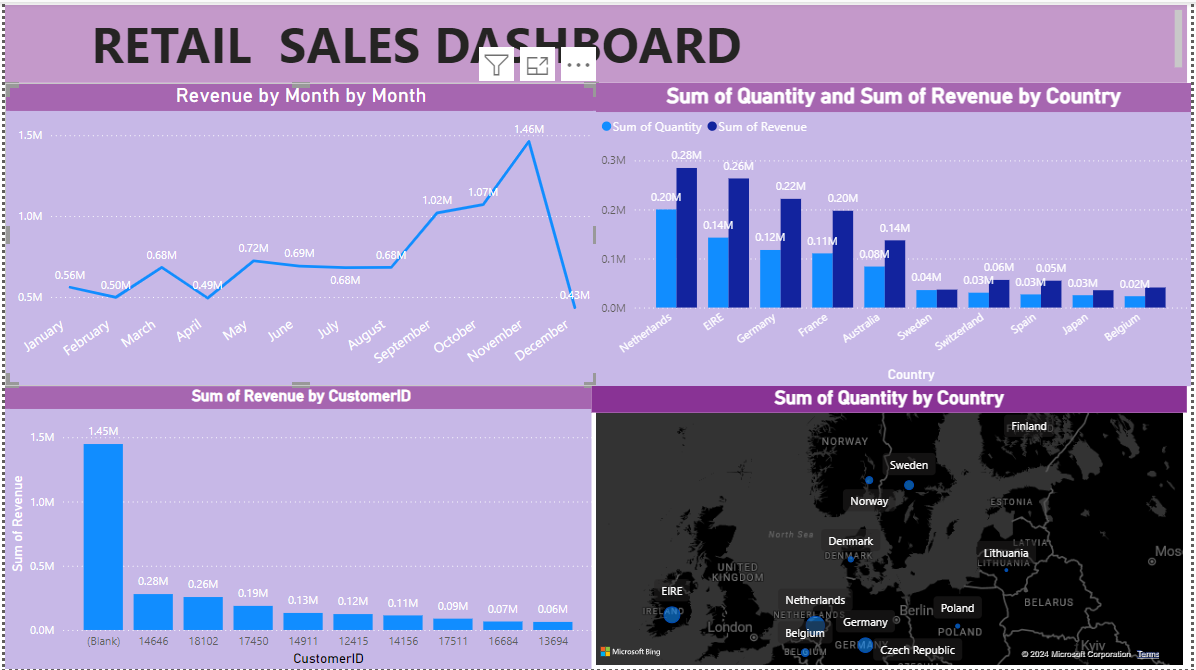

What the dashboard file says about the page in this screenshot:
{"tool":"powerbi","page":{"name":"Page 5","canvas":[1280,720],"ordinal":4},"visuals":[{"type":"lineChart","title":"Revenue by Month by Month","fields":{"Category":["Online Retail.InvoiceDate.Variation.Date Hierarchy.Month"],"Y":["Sum(Online Retail.Revenue)"]},"box":[0,87.4,589.4,327.1],"z":0},{"type":"clusteredColumnChart","fields":{"Category":["Online Retail.Country"],"Y":["Sum(Online Retail.Quantity)","Sum(Online Retail.Revenue)"]},"box":[589.4,87.4,686.6,327.1],"z":1000},{"type":"clusteredColumnChart","fields":{"Category":["Online Retail.CustomerID"],"Y":["Sum(Online Retail.Revenue)"]},"box":[0,414.5,589.4,306],"z":2000},{"type":"map","fields":{"Category":["Online Retail.Country"],"Size":["Sum(Online Retail.Quantity)"]},"box":[589.4,414.5,686.6,306],"z":3000},{"type":"textbox","box":[0,3.2,1276,84.2],"z":3001}]}

Visuals, with their boxes in screenshot pixels (x1, y1, x2, y2), scaled from the page's 1280x720 canvas onto the 1196x670 screenshot:
"Revenue by Month by Month" lineChart: x1=0 y1=81 x2=551 y2=386
clusteredColumnChart - Online Retail.Country x Sum(Online Retail.Quantity): x1=551 y1=81 x2=1192 y2=386
clusteredColumnChart - Online Retail.CustomerID x Sum(Online Retail.Revenue): x1=0 y1=386 x2=551 y2=669
map - Online Retail.Country x Sum(Online Retail.Quantity): x1=551 y1=386 x2=1192 y2=669
textbox: x1=0 y1=3 x2=1192 y2=81
